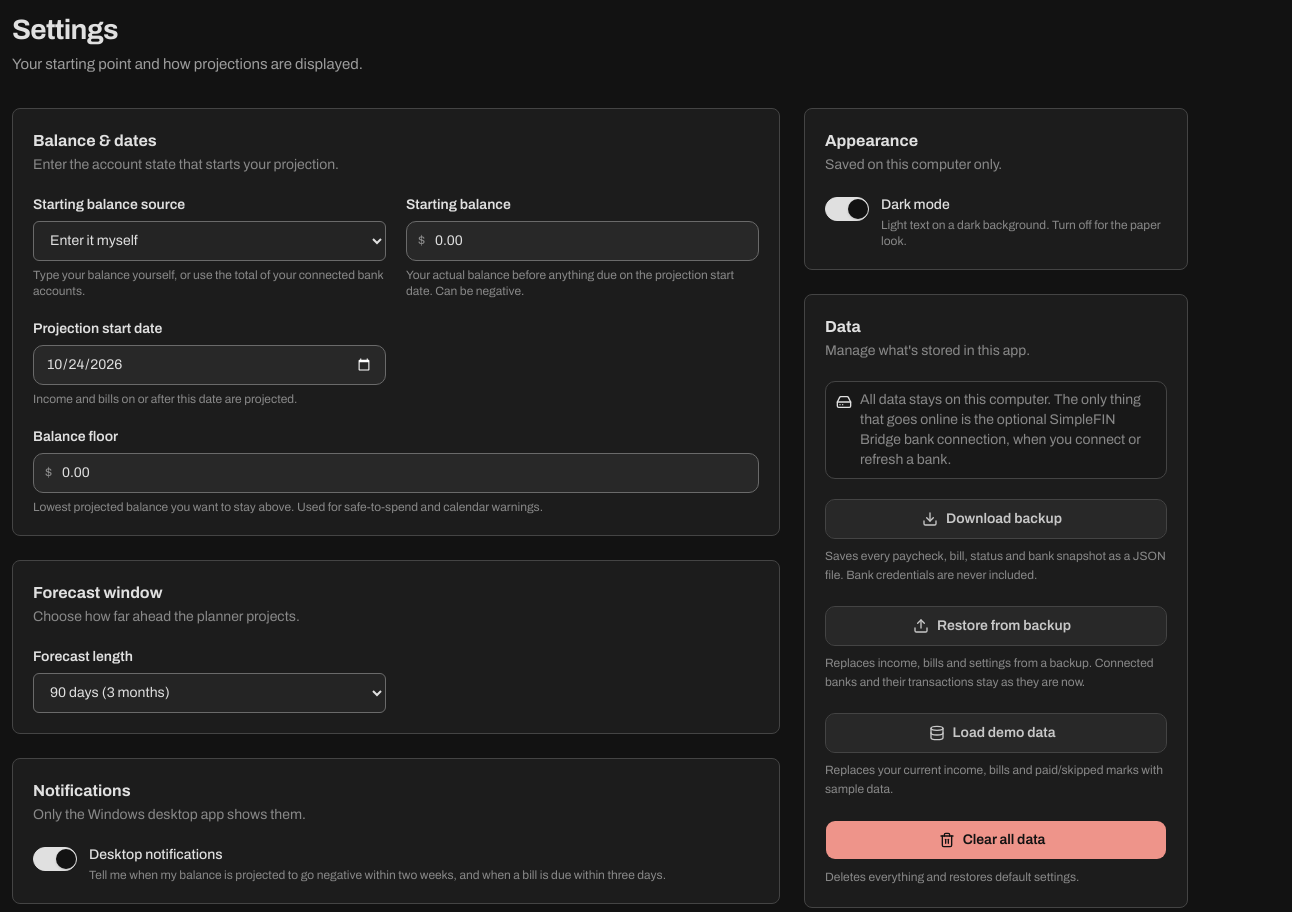
Scenario: Settings → Download backup › downloads the file with the server's name, without asking for confirmation
Expected: the text "Bank credentials are never included" is shown, [825,548,1166,582]
Click the button with test id "settings-export" at coordinates (996, 518), box [825,498,1167,538]
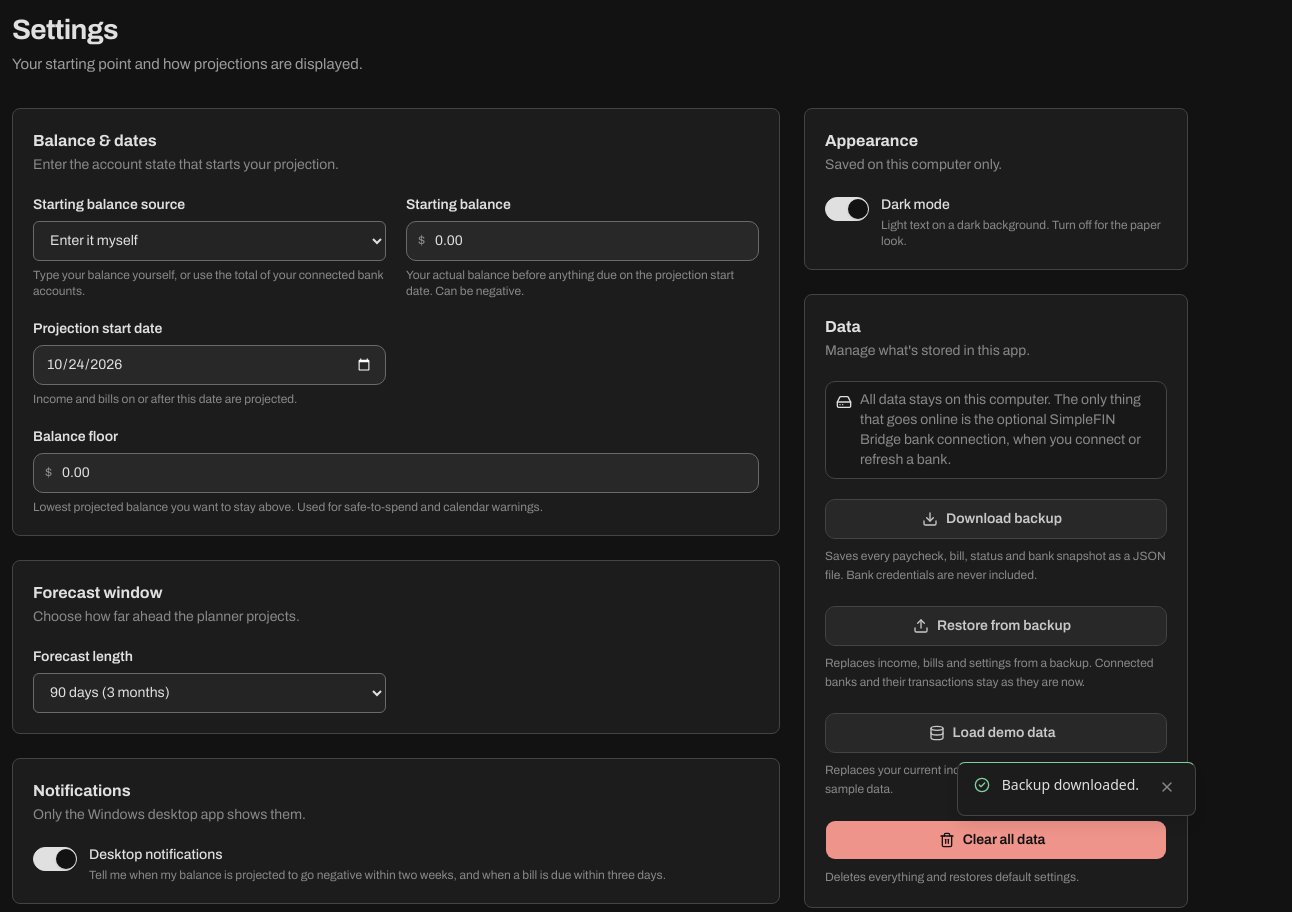
Result: the text "Backup downloaded." is shown at [1002,775,1139,795]
